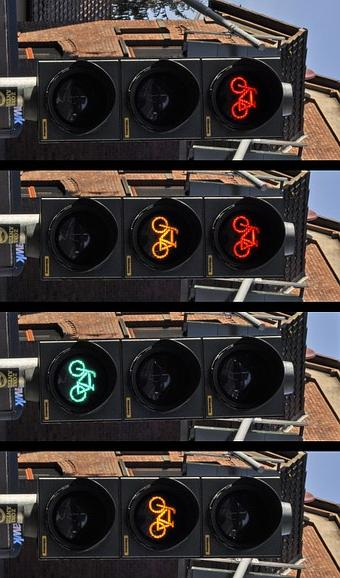trafic: (40, 53, 282, 142), (47, 192, 289, 281), (48, 334, 290, 423), (42, 466, 284, 555)
